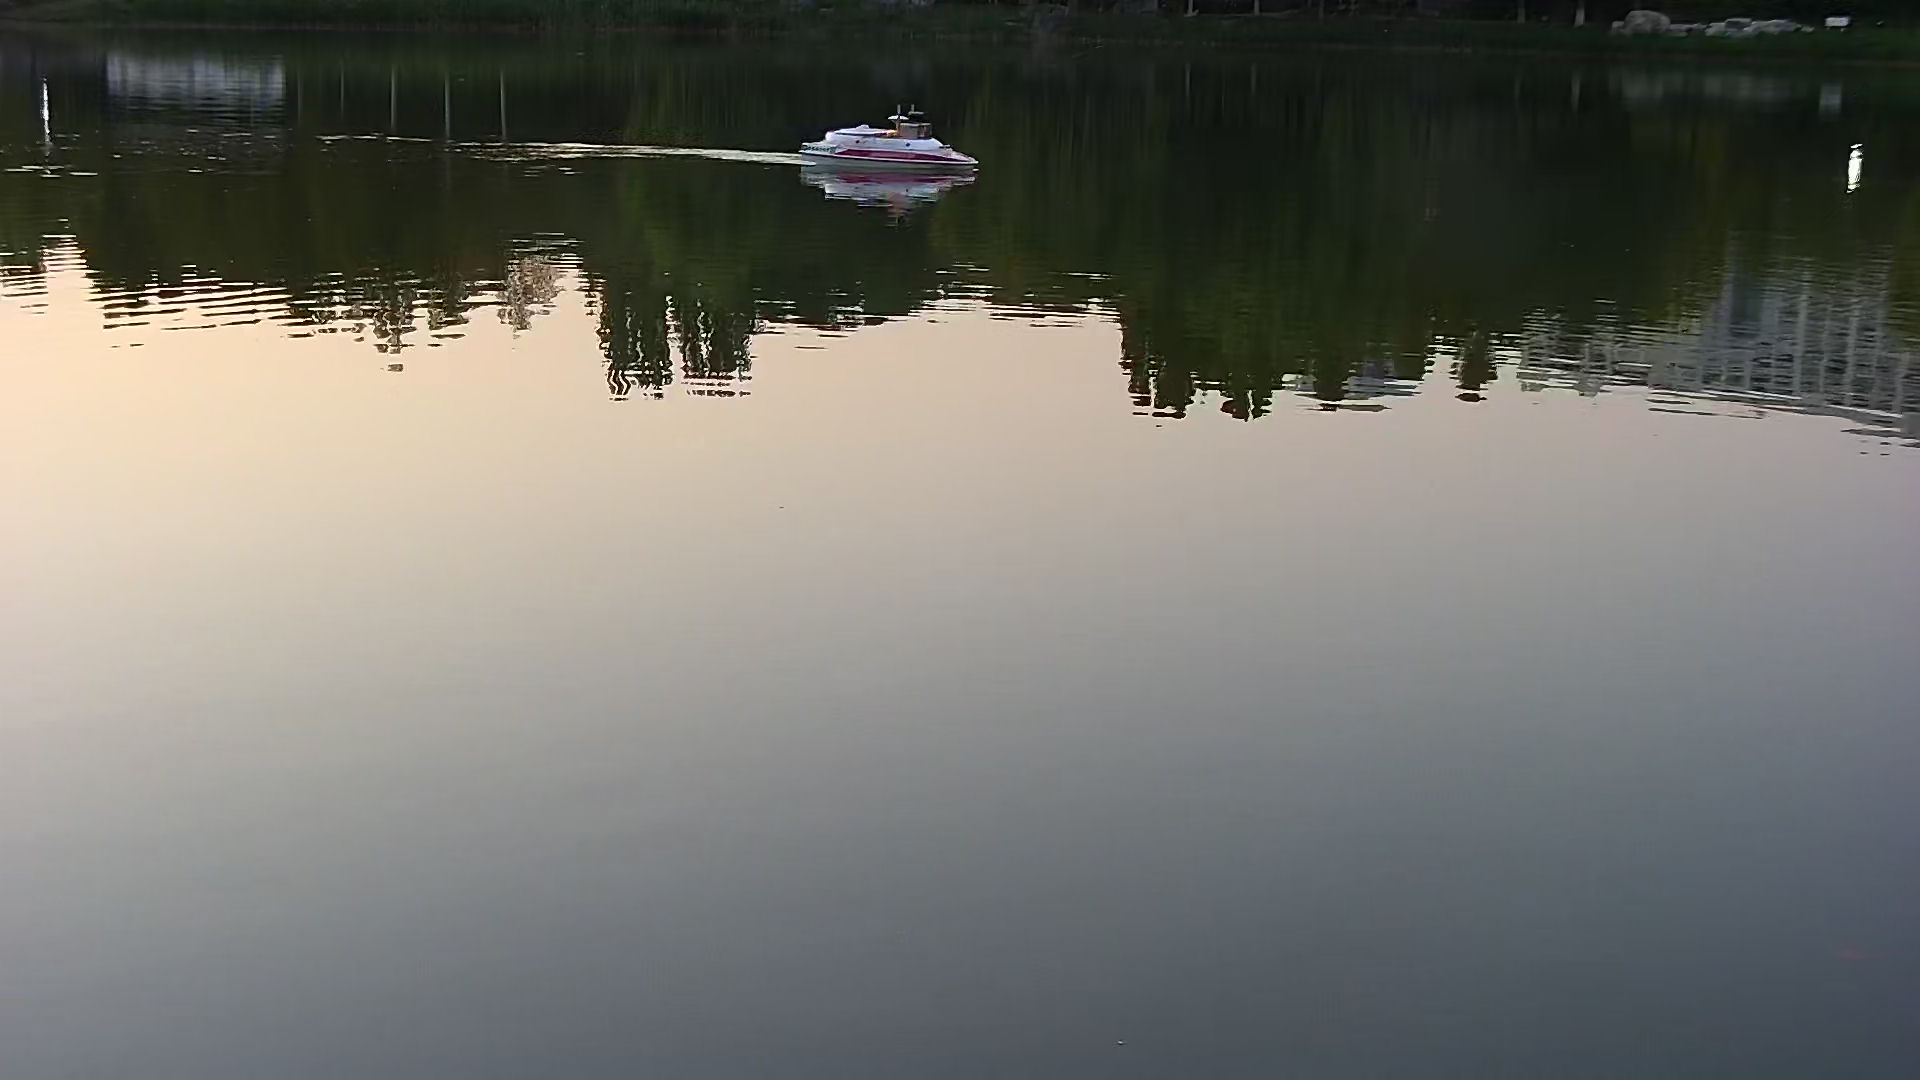boat: (789, 105, 977, 182)
rock: (1610, 11, 1815, 42)
